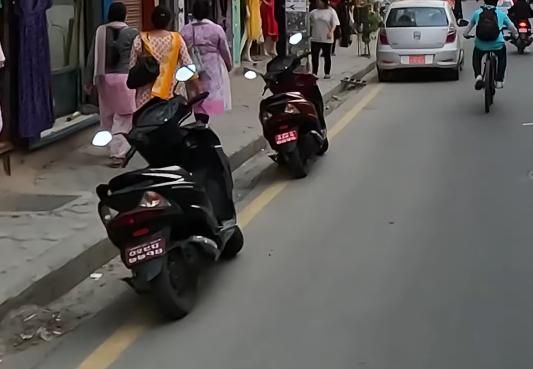car: (376, 0, 468, 86)
scooter: (82, 55, 244, 323), (239, 28, 337, 176)
